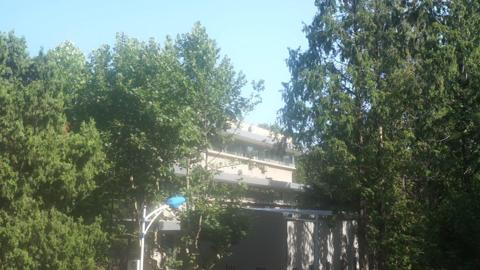UAV: (308, 172, 316, 176)
